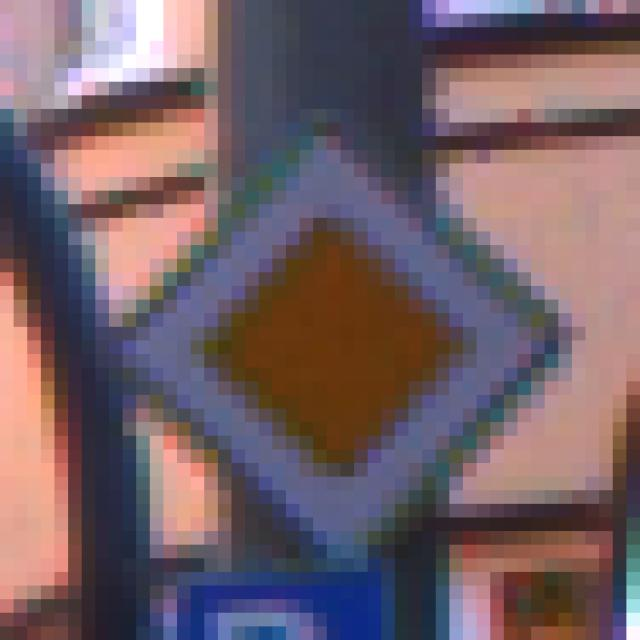Main Road: (69, 83, 573, 573)
